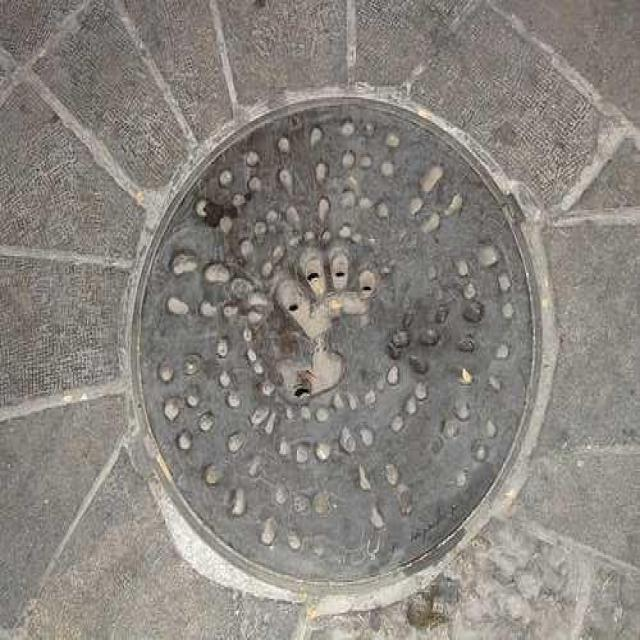manhole: (126, 90, 556, 613)
